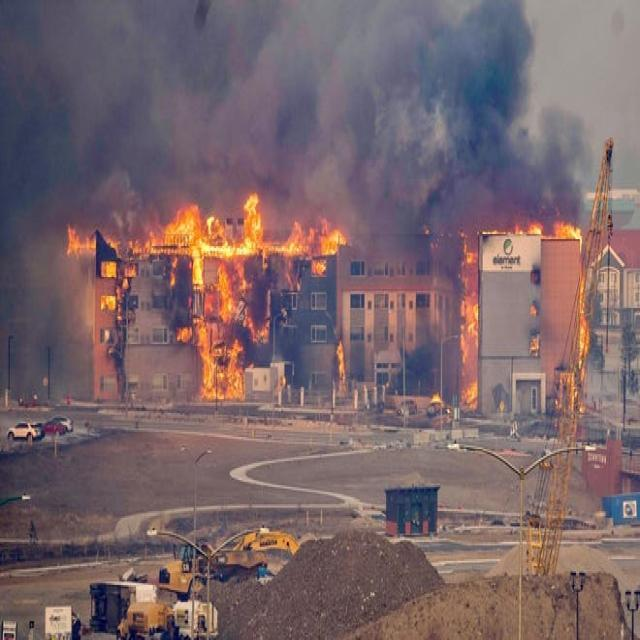Fire: (202, 240, 253, 258), (248, 216, 260, 247), (187, 214, 196, 238), (195, 264, 203, 282), (328, 237, 336, 253)
Smoke: (216, 44, 340, 178), (56, 17, 177, 148), (350, 20, 410, 94), (468, 37, 505, 92)
